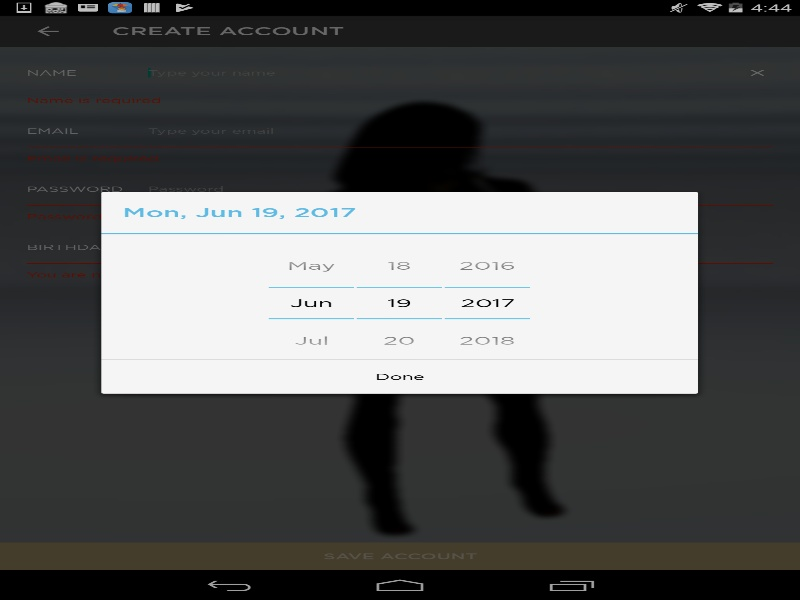Button: (101, 360, 698, 393), (268, 246, 354, 288), (356, 246, 442, 288), (444, 246, 530, 288), (268, 318, 354, 359), (356, 318, 442, 359), (444, 318, 530, 359)
Input: (268, 288, 354, 318), (356, 288, 442, 318), (444, 288, 530, 318)
